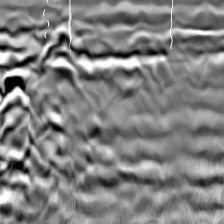Utility: (38, 25, 94, 81), (1, 67, 31, 146)
